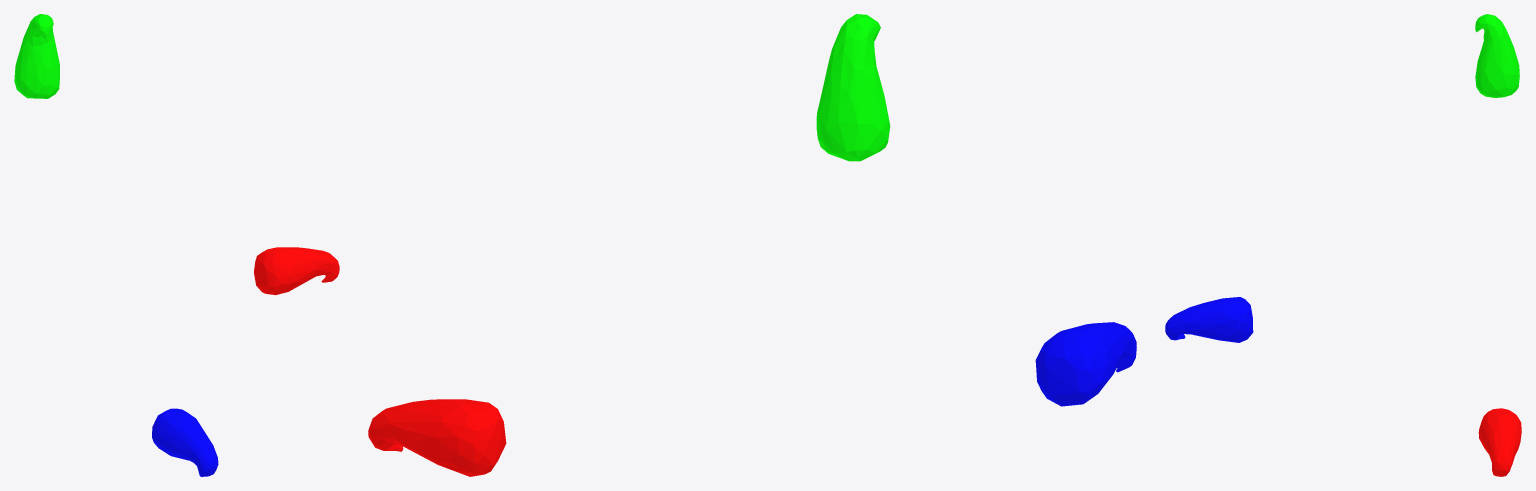
Rendered from gizmo-clr.glb.
The picture shows the model from 3 angles, left to right: view 1: azimuth 30°, elevation 25°; view 2: azimuth 150°, elevation 25°; view 3: azimuth 270°, elevation 25°; orthographic projection. The views are drawn at different scales.
Parts seen in each view (by area): view 1: Plane.009, Plane.010, Plane.008; view 2: Plane.010, Plane.009, Plane.008; view 3: Plane.008, Plane.010, Plane.009.
Part boxes in pixels (<box>): Plane.009: <box>254,247,339,295</box>; Plane.010: <box>14,14,59,98</box>; Plane.008: <box>152,408,218,476</box>; Plane.010: <box>816,14,890,161</box>; Plane.009: <box>368,399,506,476</box>; Plane.008: <box>1035,322,1136,406</box>; Plane.008: <box>1165,297,1253,342</box>; Plane.010: <box>1475,14,1519,97</box>; Plane.009: <box>1478,408,1521,476</box>.
Size of the model in its own units: 0.4878 by 0.4927 by 0.4894.
Materials: 1 (1 with a texture image).
